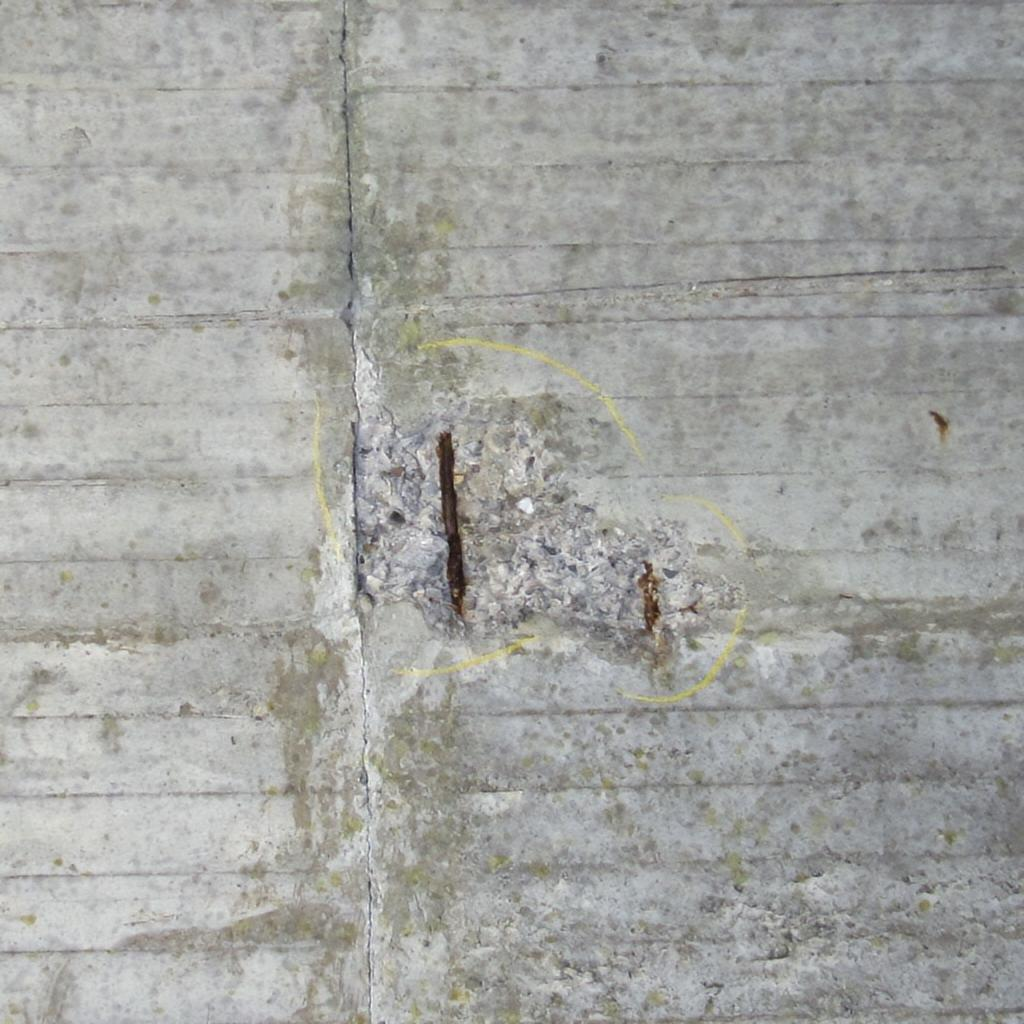spalling: (358, 356, 742, 665), (436, 432, 466, 614), (638, 562, 660, 631)
